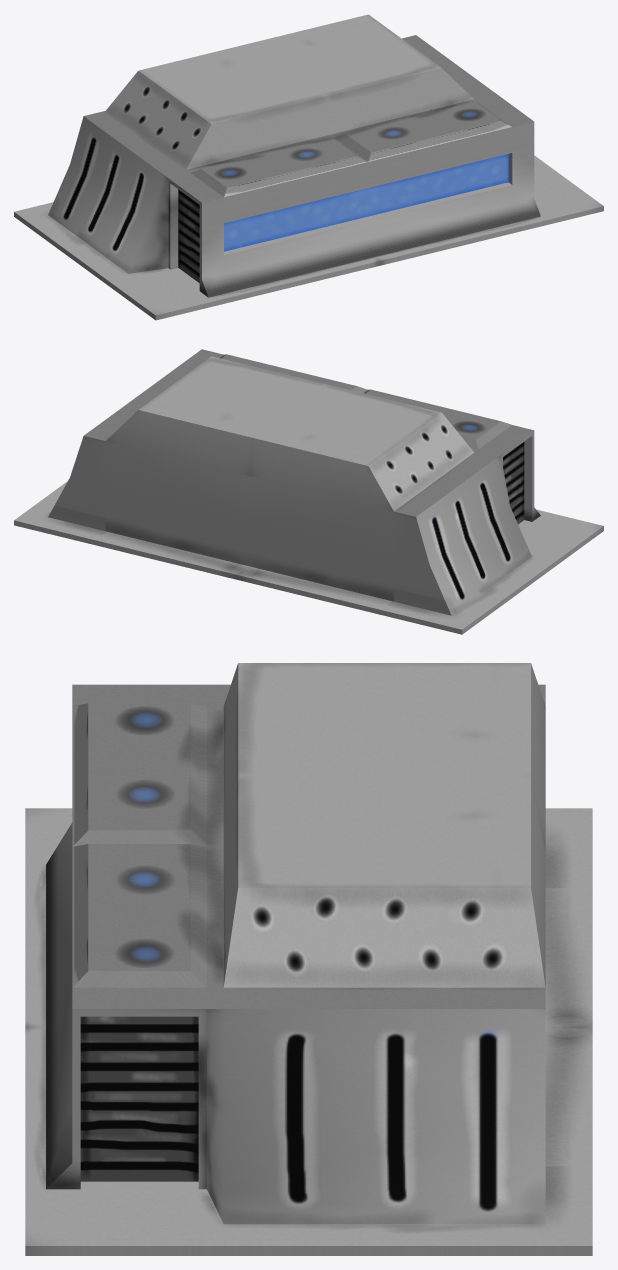
Rendered from Barrack.FBX.
3 views of the same model, one above another, from view 1: azimuth 30°, elevation 25°; view 2: azimuth 150°, elevation 25°; view 3: azimuth 270°, elevation 25° (orthographic). The views are drawn at different scales.
Parts seen in each view (by area): view 1: Box001; view 2: Box001; view 3: Box001.
Boxes of the visible parts, box(x1,y1,x2,y2) form: Box001: box(14, 14, 603, 320); Box001: box(14, 349, 603, 634); Box001: box(25, 663, 592, 1255).
Size of the model in its own units: 160 by 44.71 by 87.86.
